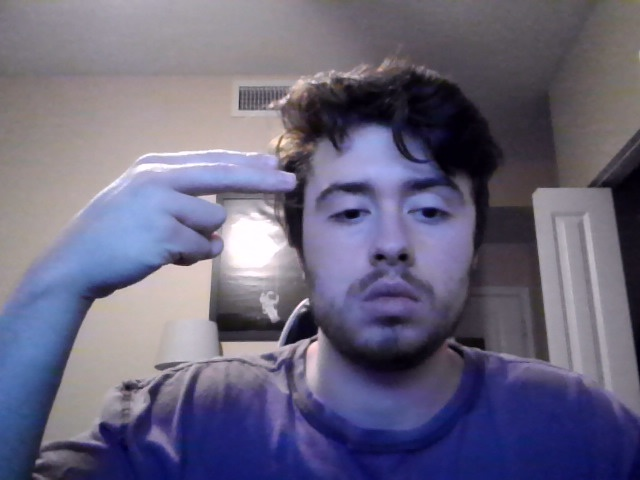h: (26, 148, 299, 307)
